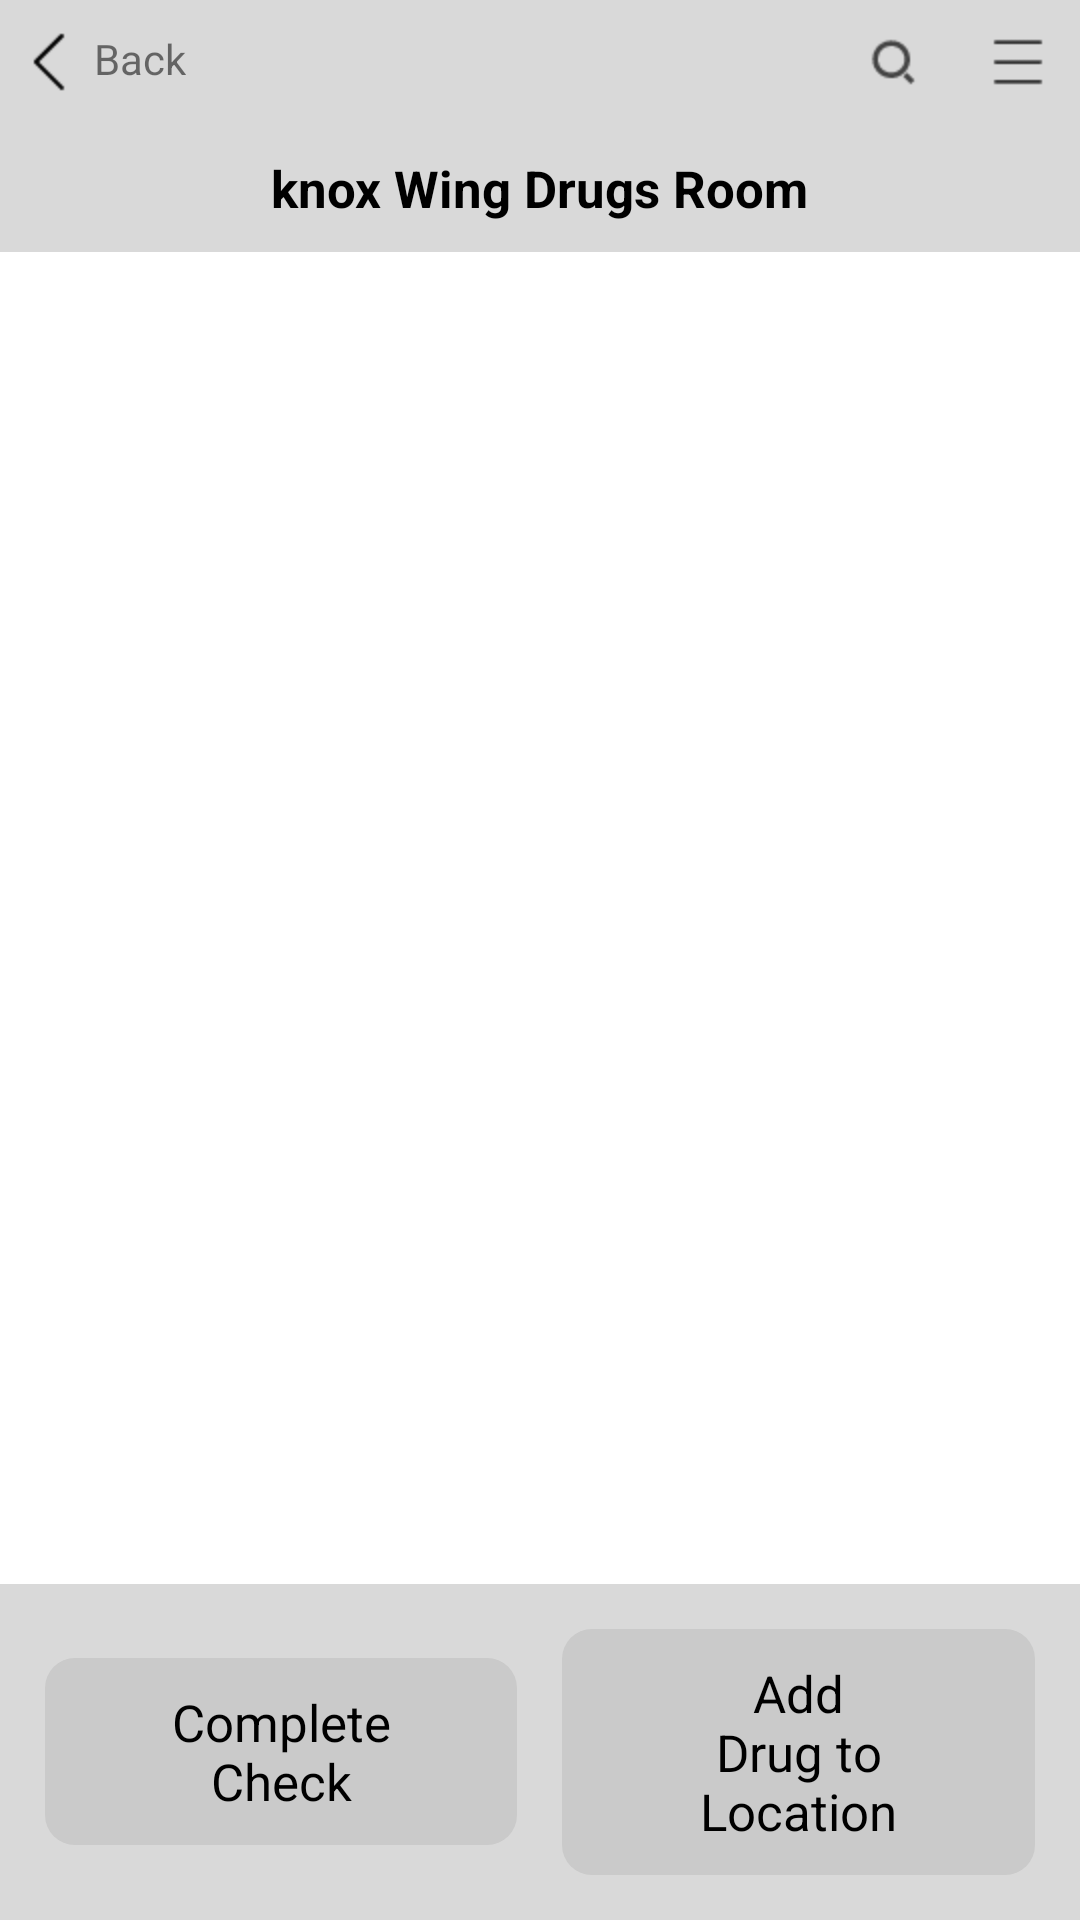

Icon bounding boxes for this 1080 x 1920 phone screenshot, format {"x1": x1, "y1": y1, "x2": x2, "y2": y2}:
menu: {"x1": 993, "y1": 39, "x2": 1043, "y2": 85}
search: {"x1": 872, "y1": 40, "x2": 915, "y2": 84}
